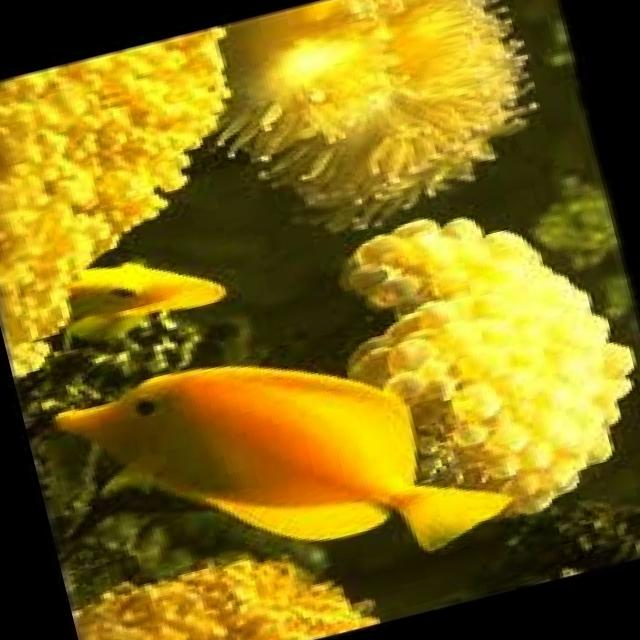YellowTang: (41, 274, 520, 630), (24, 232, 234, 364)
